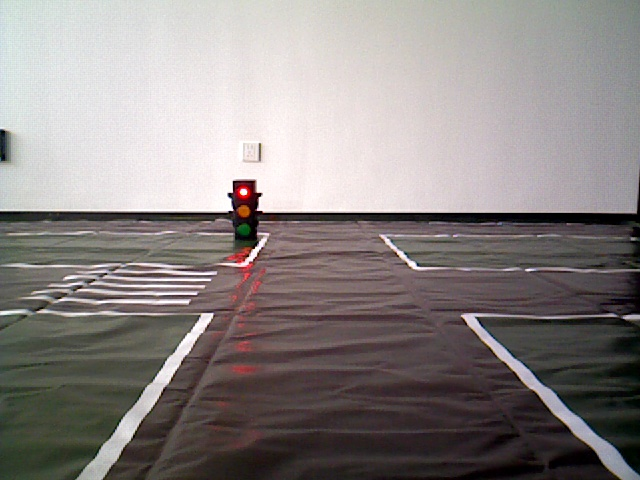red: (234, 181, 253, 238)
